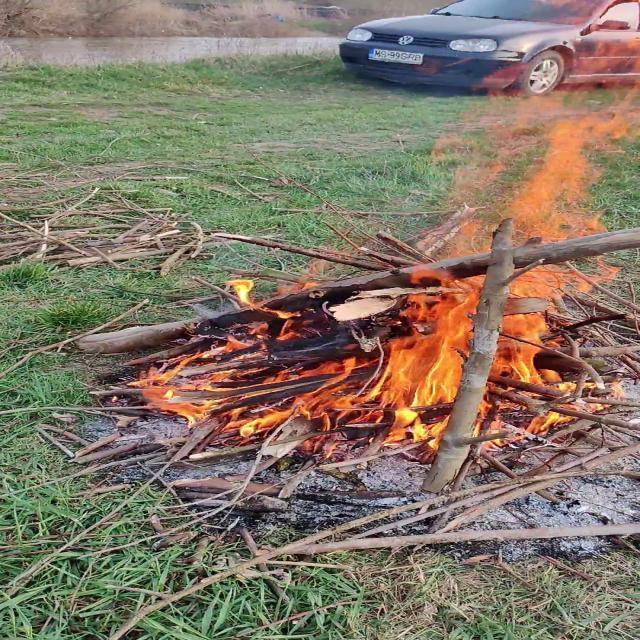Fire: (152, 266, 616, 468), (395, 109, 640, 439)
